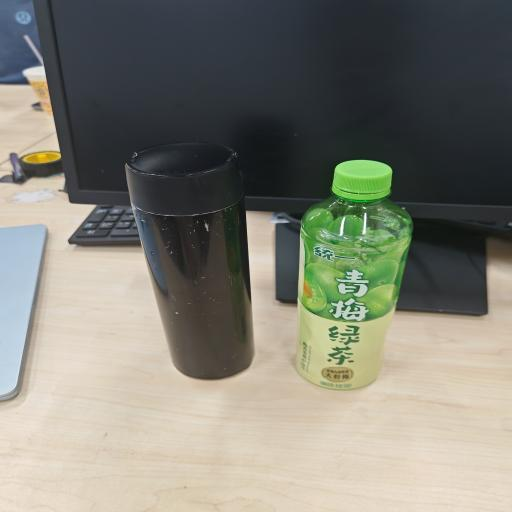laptop: (0, 222, 50, 402)
